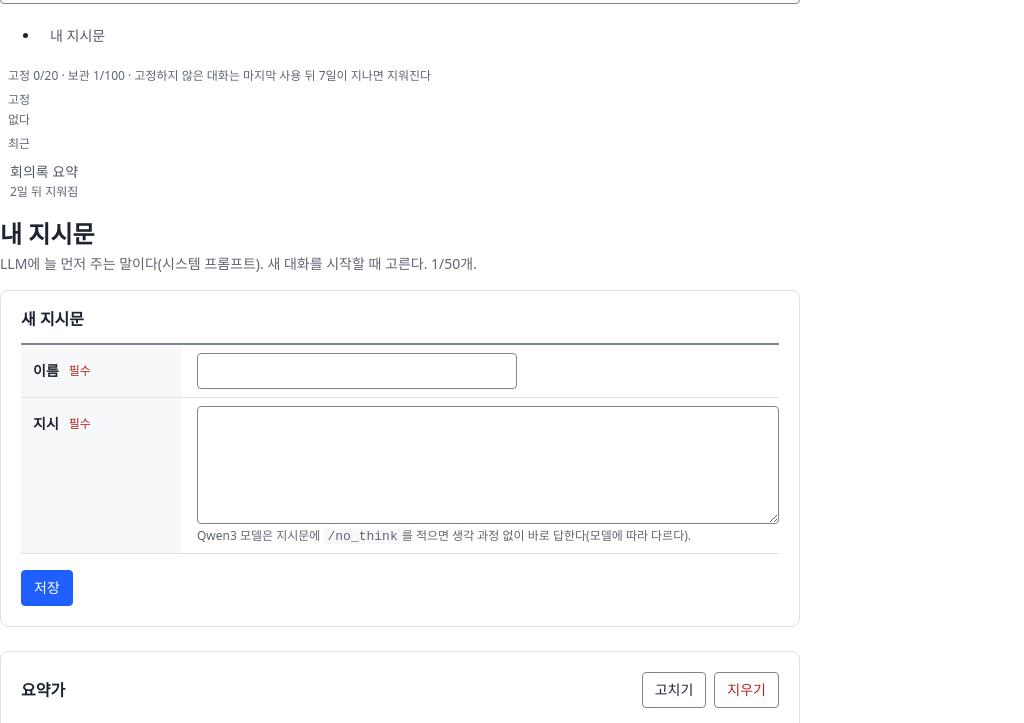
it: 지시문 저장·고치기·지우기 (FR-1125~1129) › **지우기 전에 묻는다** — 그만두면 지우지 않는다. 처음 초점은 그만두기, 확정 단추는 "지우기"를 품지 않는다 (J.5.10)
Click the button with aria-label "요약가 지우기" at (747, 690), box [714, 672, 779, 708]
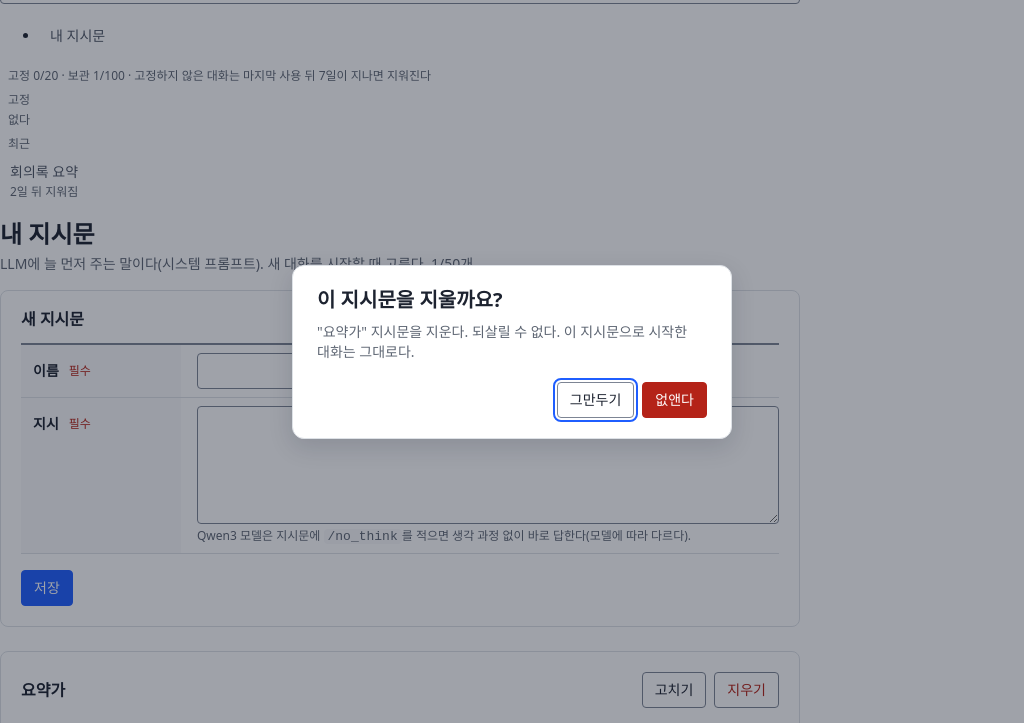
Expected: the dialog "이 지시문을 지울까요?" shows "\"요약가\" 지시문을 지운다. 되살릴 수 없다. 이 지시문으로 시작한 대화는 그대로다.", [317, 322, 687, 361]
Click the button "그만두기" at (596, 400), box [557, 382, 634, 418]
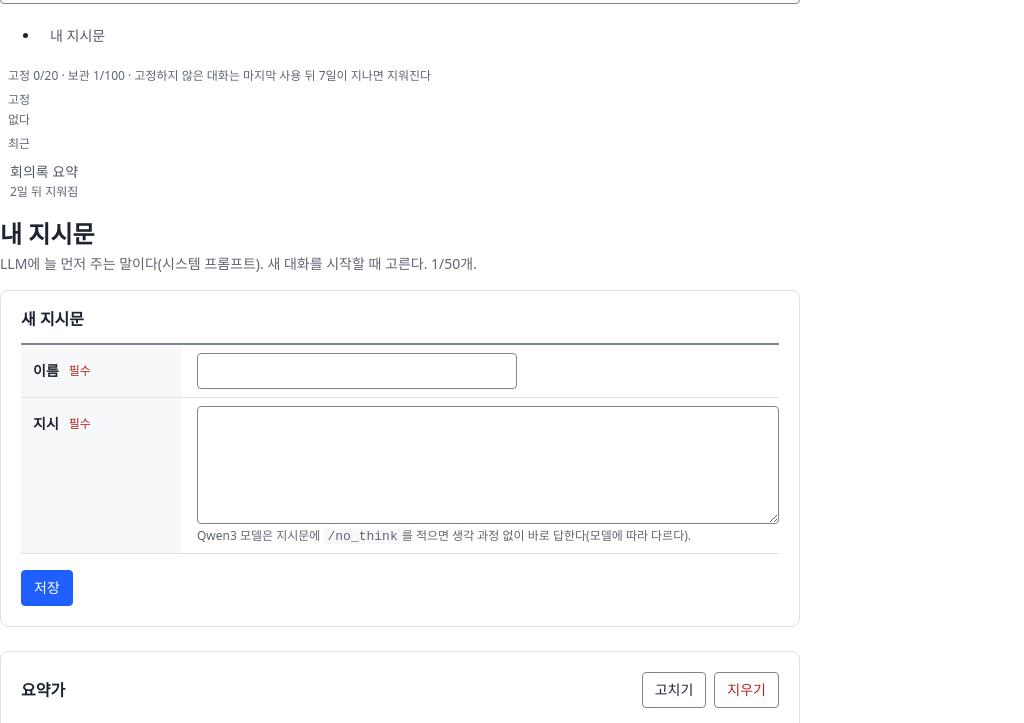
Expected: the dialog is gone
Click the button with aria-label "요약가 지우기" at (747, 690), box [714, 672, 779, 708]
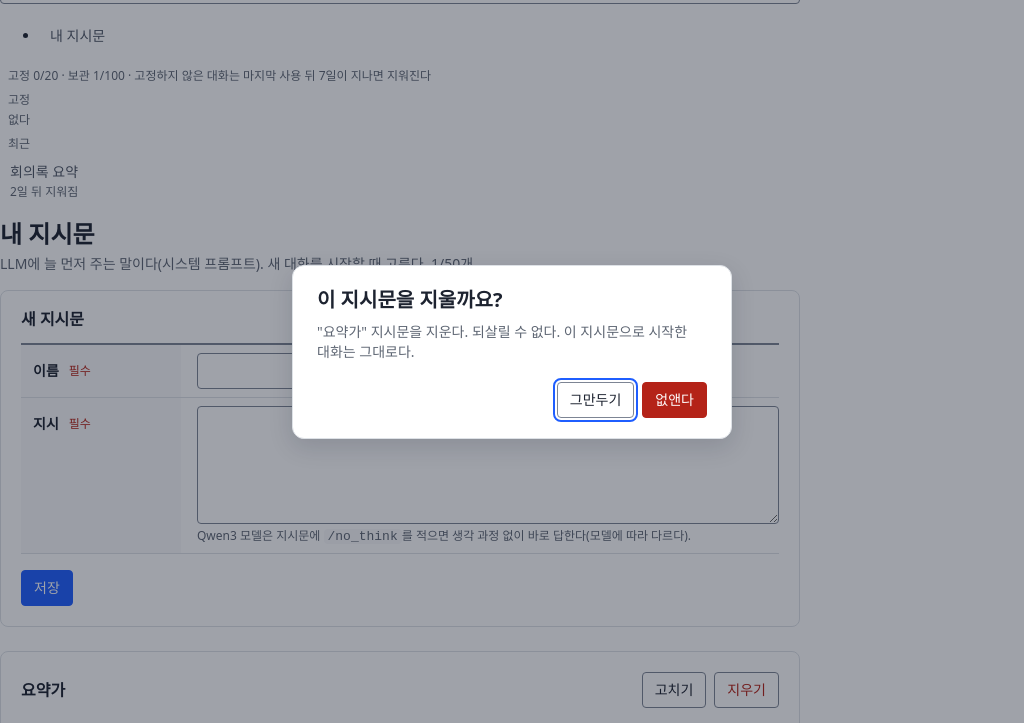
Click the button "없앤다" at (675, 400), box [642, 382, 707, 418]
(page scrolled)
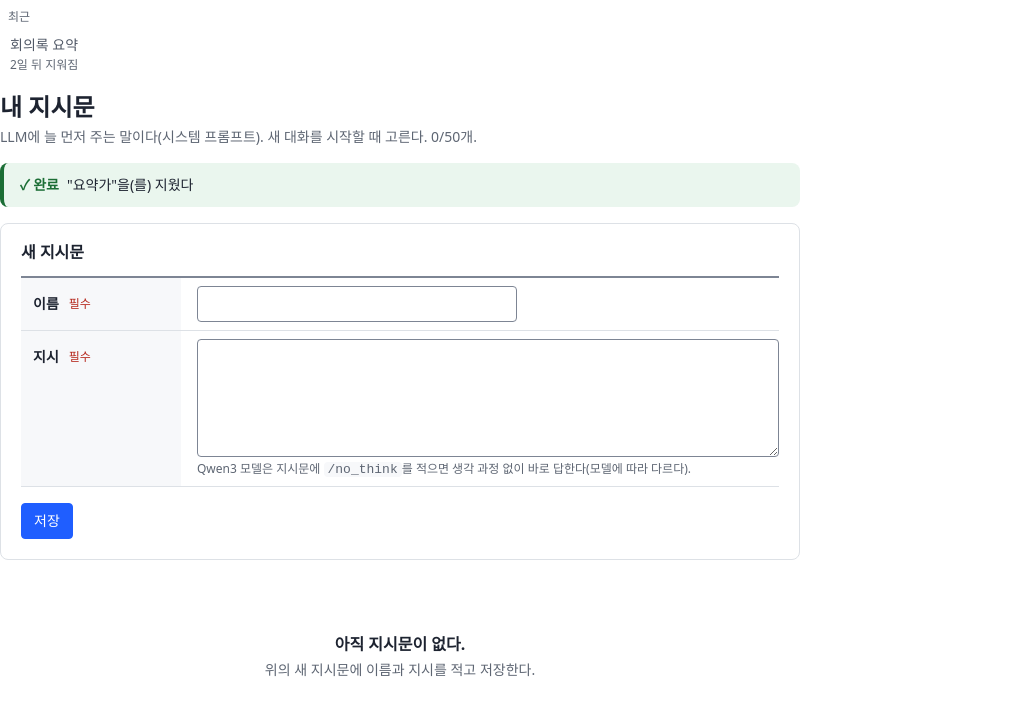
Expected: the message reads "\"요약가\"을(를) 지웠다", [67, 175, 194, 194]
Expected: the text "아직 지시문이 없다." is shown, [335, 633, 465, 655]
